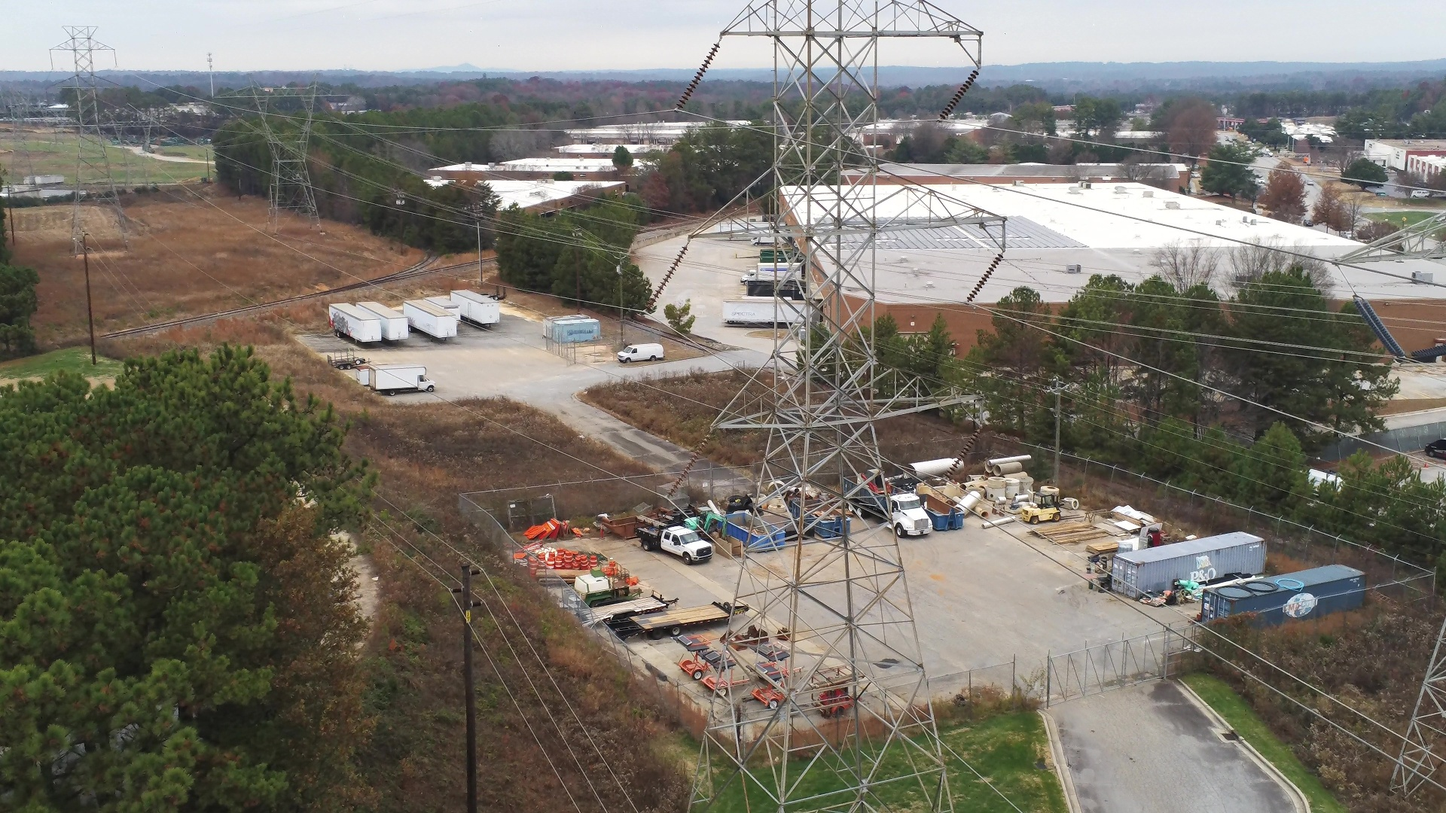insulator: (1353, 296, 1408, 360), (674, 41, 721, 111), (664, 433, 712, 498), (643, 244, 688, 311), (937, 69, 980, 121), (942, 428, 981, 480), (965, 251, 1004, 303), (1410, 341, 1446, 361)
